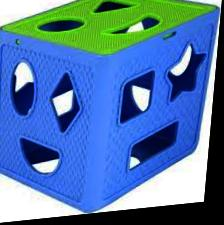cube: (0, 0, 219, 225)
